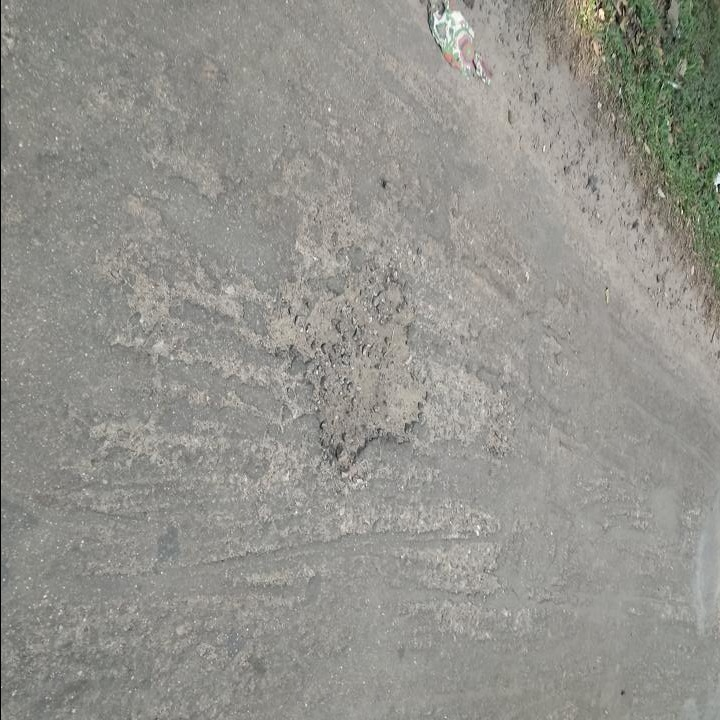pothole: (302, 260, 432, 468)
